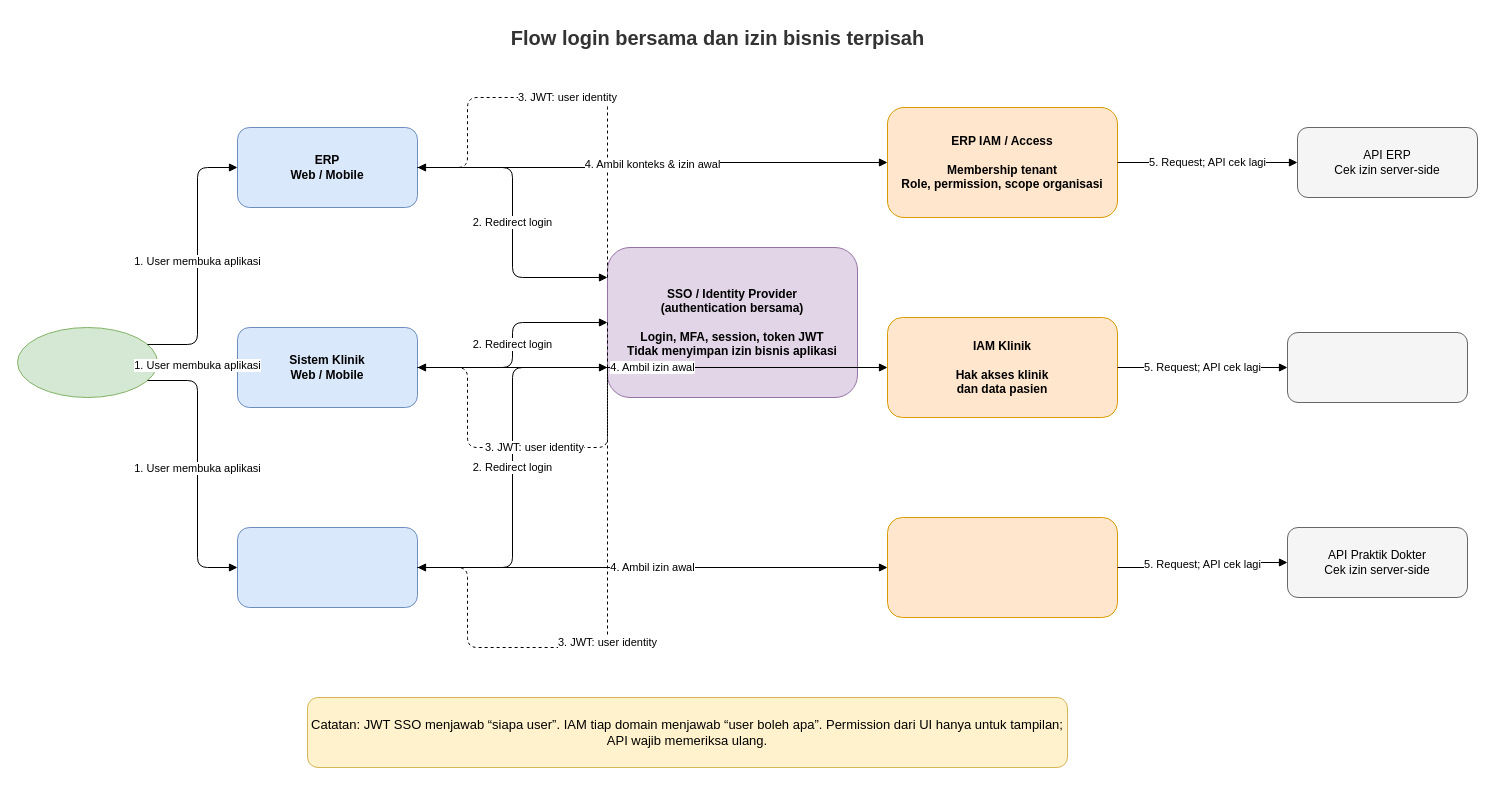
Image size: 1495x785. Some labels were removed from this diagram. The centre of each missing label's shape, as x and y in pixels:
API Klinik Cek izin server-side: pixel 1377 367
IAM Praktik Dokter Hak akses praktik dan jadwal dokter: pixel 1002 567
Pengguna: pixel 87 362
Praktik Dokter Web / Mobile: pixel 327 567
